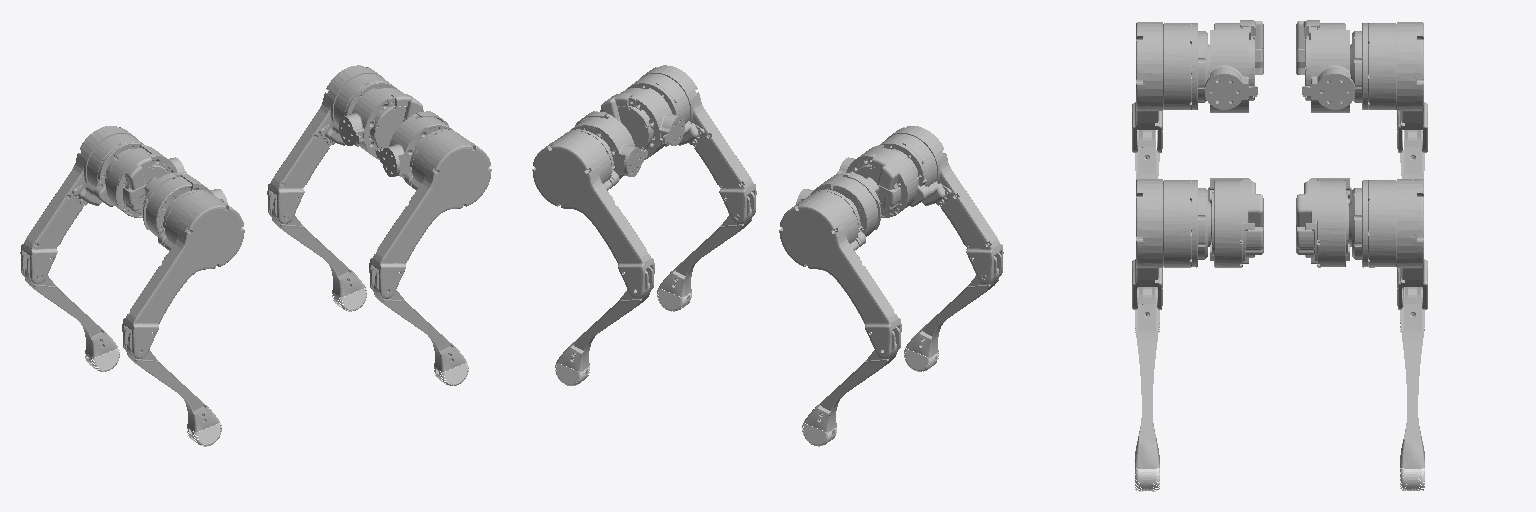
The robot description file, URDF, robot "Bigdog":
<?xml version="1.0" encoding="utf-8"?>
<!-- This URDF was automatically created by SolidWorks to URDF Exporter! Originally created by [author] ([email redacted]) 
     Commit Version: 1.6.0-4-g7f85cfe  Build Version: 1.6.7995.38578
     For more information, please see http://wiki.ros.org/sw_urdf_exporter -->
<robot
  name="Bigdog">
  <link
    name="BODY">
    <inertial>
      <origin
        xyz="-6.601E-06 6.0313E-07 -0.0033948"
        rpy="0 0 0" />
      <mass
        value="7.1237" />
      <inertia
        ixx="0.05681"
        ixy="0"
        ixz="-1E-05"
        iyy="0.07575"
        iyz="-1E-05"
        izz="0.10574" />
    </inertial>
    <visual>
      <origin
        xyz="0 0 0"
        rpy="0 0 0" />
      <geometry>
        <mesh
          filename="package://robot-Bigdog-A.SLDASM/meshes/BODY.STL" />
      </geometry>
      <material
        name="">
        <color
          rgba="0.75294 0.75294 0.75294 1" />
      </material>
    </visual>
    <collision>
      <origin
        xyz="0 0 0"
        rpy="0 0 0" />
      <geometry>
        <mesh
          filename="package://robot-Bigdog-A.SLDASM/meshes/BODY.STL" />
      </geometry>
    </collision>
  </link>
  <link
    name="FR_1">
    <inertial>
      <origin
        xyz="0.061252 0.0085205 0.00031161"
        rpy="0 0 0" />
      <mass
        value="0.33434" />
      <inertia
        ixx="0.00024"
        ixy="-1E-05"
        ixz="0"
        iyy="0.00041"
        iyz="0"
        izz="0.00029" />
    </inertial>
    <visual>
      <origin
        xyz="0 0 0"
        rpy="0 0 0" />
      <geometry>
        <mesh
          filename="package://robot-Bigdog-A.SLDASM/meshes/FR_1.STL" />
      </geometry>
      <material
        name="">
        <color
          rgba="0.75294 0.75294 0.75294 1" />
      </material>
    </visual>
    <collision>
      <origin
        xyz="0 0 0"
        rpy="0 0 0" />
      <geometry>
        <mesh
          filename="package://robot-Bigdog-A.SLDASM/meshes/FR_1.STL" />
      </geometry>
    </collision>
  </link>
  <joint
    name="FR_1A"
    type="revolute">
    <origin
      xyz="0.1393 -0.061 0"
      rpy="0 0 0" />
    <parent
      link="BODY" />
    <child
      link="FR_1" />
    <axis
      xyz="1 0 0" />
    <limit
      lower="-3.14"
      upper="3.14"
      effort="100"
      velocity="50" />
  </joint>
  <link
    name="FR_2">
    <inertial>
      <origin
        xyz="-0.033941 -0.061444 -0.031612"
        rpy="0 0 0" />
      <mass
        value="1.1104" />
      <inertia
        ixx="0.00351"
        ixy="-0.00045"
        ixz="-0.00244"
        iyy="0.00607"
        iyz="-0.00042"
        izz="0.00358" />
    </inertial>
    <visual>
      <origin
        xyz="0 0 0"
        rpy="0 0 0" />
      <geometry>
        <mesh
          filename="package://robot-Bigdog-A.SLDASM/meshes/FR_2.STL" />
      </geometry>
      <material
        name="">
        <color
          rgba="0.75294 0.75294 0.75294 1" />
      </material>
    </visual>
    <collision>
      <origin
        xyz="0 0 0"
        rpy="0 0 0" />
      <geometry>
        <mesh
          filename="package://robot-Bigdog-A.SLDASM/meshes/FR_2.STL" />
      </geometry>
    </collision>
  </link>
  <joint
    name="FR_2A"
    type="revolute">
    <origin
      xyz="0.065 -0.0115 0"
      rpy="0 0 0" />
    <parent
      link="FR_1" />
    <child
      link="FR_2" />
    <axis
      xyz="0 1 0" />
    <limit
      lower="-3.14"
      upper="3.14"
      effort="100"
      velocity="50" />
  </joint>
  <link
    name="FR_3">
    <inertial>
      <origin
        xyz="0.052368 -0.016301 -0.063878"
        rpy="0 0 0" />
      <mass
        value="0.10582" />
      <inertia
        ixx="0.00037"
        ixy="0"
        ixz="0.00029"
        iyy="0.00061"
        iyz="0"
        izz="0.00025" />
    </inertial>
    <visual>
      <origin
        xyz="0 0 0"
        rpy="0 0 0" />
      <geometry>
        <mesh
          filename="package://robot-Bigdog-A.SLDASM/meshes/FR_3.STL" />
      </geometry>
      <material
        name="">
        <color
          rgba="0.75294 0.75294 0.75294 1" />
      </material>
    </visual>
    <collision>
      <origin
        xyz="0 0 0"
        rpy="0 0 0" />
      <geometry>
        <mesh
          filename="package://robot-Bigdog-A.SLDASM/meshes/FR_3.STL" />
      </geometry>
    </collision>
  </link>
  <joint
    name="FR_3A"
    type="revolute">
    <origin
      xyz="-0.1247 -0.0572 -0.14861"
      rpy="0 0 0" />
    <parent
      link="FR_2" />
    <child
      link="FR_3" />
    <axis
      xyz="0 1 0" />
    <limit
      lower="-3.14"
      upper="3.14"
      effort="100"
      velocity="50" />
  </joint>
  <link
    name="FR_4">
    <inertial>
      <origin
        xyz="0.0017765 3.0979E-07 -0.011458"
        rpy="0 0 0" />
      <mass
        value="0.034657" />
      <inertia
        ixx="5.6404E-06"
        ixy="1.8541E-09"
        ixz="1.9984E-07"
        iyy="8.2173E-06"
        iyz="2.6192E-10"
        izz="6.9941E-06" />
    </inertial>
    <visual>
      <origin
        xyz="0 0 0"
        rpy="0 0 0" />
      <geometry>
        <mesh
          filename="package://robot-Bigdog-A.SLDASM/meshes/FR_4.STL" />
      </geometry>
      <material
        name="">
        <color
          rgba="1 1 1 1" />
      </material>
    </visual>
    <collision>
      <origin
        xyz="0 0 0"
        rpy="0 0 0" />
      <geometry>
        <mesh
          filename="package://robot-Bigdog-A.SLDASM/meshes/FR_4.STL" />
      </geometry>
    </collision>
  </link>
  <joint
    name="FR_4A"
    type="fixed">
    <origin
      xyz="0.11222 -0.0163 -0.14758"
      rpy="0 0 0" />
    <parent
      link="FR_3" />
    <child
      link="FR_4" />
    <axis
      xyz="0 0 0" />
  </joint>
  <link
    name="FL_1">
    <inertial>
      <origin
        xyz="0.061256 -0.0085206 0.00028119"
        rpy="0 0 0" />
      <mass
        value="0.33435" />
      <inertia
        ixx="0.00024"
        ixy="1E-05"
        ixz="0"
        iyy="0.00041"
        iyz="0"
        izz="0.00029" />
    </inertial>
    <visual>
      <origin
        xyz="0 0 0"
        rpy="0 0 0" />
      <geometry>
        <mesh
          filename="package://robot-Bigdog-A.SLDASM/meshes/FL_1.STL" />
      </geometry>
      <material
        name="">
        <color
          rgba="0.75294 0.75294 0.75294 1" />
      </material>
    </visual>
    <collision>
      <origin
        xyz="0 0 0"
        rpy="0 0 0" />
      <geometry>
        <mesh
          filename="package://robot-Bigdog-A.SLDASM/meshes/FL_1.STL" />
      </geometry>
    </collision>
  </link>
  <joint
    name="FL_1A"
    type="revolute">
    <origin
      xyz="0.1393 0.061 0"
      rpy="0 0 0" />
    <parent
      link="BODY" />
    <child
      link="FL_1" />
    <axis
      xyz="1 0 0" />
    <limit
      lower="-3.14"
      upper="3.14"
      effort="100"
      velocity="50" />
  </joint>
  <link
    name="FL_2">
    <inertial>
      <origin
        xyz="-0.033941 0.061444 -0.031616"
        rpy="0 0 0" />
      <mass
        value="1.1103" />
      <inertia
        ixx="0.00351"
        ixy="0.00045"
        ixz="-0.00244"
        iyy="0.00607"
        iyz="0.00042"
        izz="0.00358" />
    </inertial>
    <visual>
      <origin
        xyz="0 0 0"
        rpy="0 0 0" />
      <geometry>
        <mesh
          filename="package://robot-Bigdog-A.SLDASM/meshes/FL_2.STL" />
      </geometry>
      <material
        name="">
        <color
          rgba="0.75294 0.75294 0.75294 1" />
      </material>
    </visual>
    <collision>
      <origin
        xyz="0 0 0"
        rpy="0 0 0" />
      <geometry>
        <mesh
          filename="package://robot-Bigdog-A.SLDASM/meshes/FL_2.STL" />
      </geometry>
    </collision>
  </link>
  <joint
    name="FL_2A"
    type="revolute">
    <origin
      xyz="0.065 0.0115 0"
      rpy="0 0 0" />
    <parent
      link="FL_1" />
    <child
      link="FL_2" />
    <axis
      xyz="0 1 0" />
    <limit
      lower="-3.14"
      upper="3.14"
      effort="100"
      velocity="50" />
  </joint>
  <link
    name="FL_3">
    <inertial>
      <origin
        xyz="0.052437 0.016299 -0.063821"
        rpy="0 0 0" />
      <mass
        value="0.10582" />
      <inertia
        ixx="0.00037"
        ixy="0"
        ixz="0.00029"
        iyy="0.00061"
        iyz="0"
        izz="0.00025" />
    </inertial>
    <visual>
      <origin
        xyz="0 0 0"
        rpy="0 0 0" />
      <geometry>
        <mesh
          filename="package://robot-Bigdog-A.SLDASM/meshes/FL_3.STL" />
      </geometry>
      <material
        name="">
        <color
          rgba="0.75294 0.75294 0.75294 1" />
      </material>
    </visual>
    <collision>
      <origin
        xyz="0 0 0"
        rpy="0 0 0" />
      <geometry>
        <mesh
          filename="package://robot-Bigdog-A.SLDASM/meshes/FL_3.STL" />
      </geometry>
    </collision>
  </link>
  <joint
    name="FL_3A"
    type="revolute">
    <origin
      xyz="-0.1247 0.0572 -0.14861"
      rpy="0 0 0" />
    <parent
      link="FL_2" />
    <child
      link="FL_3" />
    <axis
      xyz="0 1 0" />
    <limit
      lower="-3.14"
      upper="3.14"
      effort="100"
      velocity="50" />
  </joint>
  <link
    name="FL_4">
    <inertial>
      <origin
        xyz="0.00178891349632576 3.09717608393267E-07 -0.0114556023572297"
        rpy="0 0 0" />
      <mass
        value="0.034656887242965" />
      <inertia
        ixx="5.64084567303261E-06"
        ixy="1.85384550092827E-09"
        ixz="2.01305184628335E-07"
        iyy="8.21732246303812E-06"
        iyz="2.63948675037413E-10"
        izz="6.99364784955886E-06" />
    </inertial>
    <visual>
      <origin
        xyz="0 0 0"
        rpy="0 0 0" />
      <geometry>
        <mesh
          filename="package://robot-Bigdog-A.SLDASM/meshes/FL_4.STL" />
      </geometry>
      <material
        name="">
        <color
          rgba="1 1 1 1" />
      </material>
    </visual>
    <collision>
      <origin
        xyz="0 0 0"
        rpy="0 0 0" />
      <geometry>
        <mesh
          filename="package://robot-Bigdog-A.SLDASM/meshes/FL_4.STL" />
      </geometry>
    </collision>
  </link>
  <joint
    name="FL_4A"
    type="fixed">
    <origin
      xyz="0.11238 0.0163 -0.14746"
      rpy="0 0 0" />
    <parent
      link="FL_3" />
    <child
      link="FL_4" />
    <axis
      xyz="0 0 0" />
  </joint>
  <link
    name="BR_1">
    <inertial>
      <origin
        xyz="-0.061256 0.0085206 0.00028119"
        rpy="0 0 0" />
      <mass
        value="0.33435" />
      <inertia
        ixx="0.00024"
        ixy="1E-05"
        ixz="0"
        iyy="0.00041"
        iyz="0"
        izz="0.00029" />
    </inertial>
    <visual>
      <origin
        xyz="0 0 0"
        rpy="0 0 0" />
      <geometry>
        <mesh
          filename="package://robot-Bigdog-A.SLDASM/meshes/BR_1.STL" />
      </geometry>
      <material
        name="">
        <color
          rgba="0.75294 0.75294 0.75294 1" />
      </material>
    </visual>
    <collision>
      <origin
        xyz="0 0 0"
        rpy="0 0 0" />
      <geometry>
        <mesh
          filename="package://robot-Bigdog-A.SLDASM/meshes/BR_1.STL" />
      </geometry>
    </collision>
  </link>
  <joint
    name="BR_1A"
    type="revolute">
    <origin
      xyz="-0.1393 -0.061 0"
      rpy="0 0 0" />
    <parent
      link="BODY" />
    <child
      link="BR_1" />
    <axis
      xyz="1 0 0" />
    <limit
      lower="-3.14"
      upper="3.14"
      effort="100"
      velocity="50" />
  </joint>
  <link
    name="BR_2">
    <inertial>
      <origin
        xyz="-0.033941 -0.061444 -0.031612"
        rpy="0 0 0" />
      <mass
        value="1.1104" />
      <inertia
        ixx="0.00351"
        ixy="-0.00045"
        ixz="-0.00244"
        iyy="0.00607"
        iyz="-0.00042"
        izz="0.00358" />
    </inertial>
    <visual>
      <origin
        xyz="0 0 0"
        rpy="0 0 0" />
      <geometry>
        <mesh
          filename="package://robot-Bigdog-A.SLDASM/meshes/BR_2.STL" />
      </geometry>
      <material
        name="">
        <color
          rgba="0.75294 0.75294 0.75294 1" />
      </material>
    </visual>
    <collision>
      <origin
        xyz="0 0 0"
        rpy="0 0 0" />
      <geometry>
        <mesh
          filename="package://robot-Bigdog-A.SLDASM/meshes/BR_2.STL" />
      </geometry>
    </collision>
  </link>
  <joint
    name="BR_2A"
    type="revolute">
    <origin
      xyz="-0.065 -0.0115 0"
      rpy="0 0 0" />
    <parent
      link="BR_1" />
    <child
      link="BR_2" />
    <axis
      xyz="0 1 0" />
    <limit
      lower="-3.14"
      upper="3.14"
      effort="100"
      velocity="50" />
  </joint>
  <link
    name="BR_3">
    <inertial>
      <origin
        xyz="0.052359 -0.016301 -0.063885"
        rpy="0 0 0" />
     <mass
        value="0.10582" />
      <inertia
        ixx="0.00037"
        ixy="0"
        ixz="0.00029"
        iyy="0.00061"
        iyz="0"
        izz="0.00025" />
    </inertial>
    <visual>
      <origin
        xyz="0 0 0"
        rpy="0 0 0" />
      <geometry>
        <mesh
          filename="package://robot-Bigdog-A.SLDASM/meshes/BR_3.STL" />
      </geometry>
      <material
        name="">
        <color
          rgba="0.75294 0.75294 0.75294 1" />
      </material>
    </visual>
    <collision>
      <origin
        xyz="0 0 0"
        rpy="0 0 0" />
      <geometry>
        <mesh
          filename="package://robot-Bigdog-A.SLDASM/meshes/BR_3.STL" />
      </geometry>
    </collision>
  </link>
  <joint
    name="BR_3A"
    type="revolute">
    <origin
      xyz="-0.1247 -0.0572 -0.14861"
      rpy="0 0 0" />
    <parent
      link="BR_2" />
    <child
      link="BR_3" />
    <axis
      xyz="0 1 0" />
    <limit
      lower="-3.14"
      upper="3.14"
      effort="100"
      velocity="50" />
  </joint>
  <link
    name="BR_4">
    <inertial>
      <origin
        xyz="0.00177499106550391 3.09798694614338E-07 -0.0114577678053921"
        rpy="0 0 0" />
      <mass
        value="0.0346568887557471" />
      <inertia
        ixx="5.64035838651341E-06"
        ixy="1.85417993437784E-09"
        ixz="1.99660724135235E-07"
        iyy="8.2173226004451E-06"
        iyz="2.61673167246472E-10"
        izz="6.9941354022534E-06" />
    </inertial>
    <visual>
      <origin
        xyz="0 0 0"
        rpy="0 0 0" />
      <geometry>
        <mesh
          filename="package://robot-Bigdog-A.SLDASM/meshes/BR_4.STL" />
      </geometry>
      <material
        name="">
        <color
          rgba="1 1 1 1" />
      </material>
    </visual>
    <collision>
      <origin
        xyz="0 0 0"
        rpy="0 0 0" />
      <geometry>
        <mesh
          filename="package://robot-Bigdog-A.SLDASM/meshes/BR_4.STL" />
      </geometry>
    </collision>
  </link>
  <joint
    name="BR_4A"
    type="fixed">
    <origin
      xyz="0.1122 -0.0163 -0.14759"
      rpy="0 0 0" />
    <parent
      link="BR_3" />
    <child
      link="BR_4" />
    <axis
      xyz="0 0 0" />
  </joint>
  <link
    name="BL_1">
    <inertial>
      <origin
        xyz="-0.061252 -0.0085205 0.00031161"
        rpy="0 0 0" />
      <mass
        value="0.33434" />
      <inertia
        ixx="0.00024"
        ixy="-1E-05"
        ixz="0"
        iyy="0.00041"
        iyz="0"
        izz="0.00029" />
    </inertial>
    <visual>
      <origin
        xyz="0 0 0"
        rpy="0 0 0" />
      <geometry>
        <mesh
          filename="package://robot-Bigdog-A.SLDASM/meshes/BL_1.STL" />
      </geometry>
      <material
        name="">
        <color
          rgba="0.75294 0.75294 0.75294 1" />
      </material>
    </visual>
    <collision>
      <origin
        xyz="0 0 0"
        rpy="0 0 0" />
      <geometry>
        <mesh
          filename="package://robot-Bigdog-A.SLDASM/meshes/BL_1.STL" />
      </geometry>
    </collision>
  </link>
  <joint
    name="BL_1A"
    type="revolute">
    <origin
      xyz="-0.1393 0.061 0"
      rpy="0 0 0" />
    <parent
      link="BODY" />
    <child
      link="BL_1" />
    <axis
      xyz="1 0 0" />
    <limit
      lower="-3.14"
      upper="3.14"
      effort="100"
      velocity="50" />
  </joint>
  <link
    name="BL_2">
    <inertial>
      <origin
        xyz="-0.033941 0.061444 -0.031616"
        rpy="0 0 0" />
      <mass
        value="1.1103" />
      <inertia
        ixx="0.00351"
        ixy="0.00045"
        ixz="-0.00244"
        iyy="0.00607"
        iyz="0.00042"
        izz="0.00358" />
    </inertial>
    <visual>
      <origin
        xyz="0 0 0"
        rpy="0 0 0" />
      <geometry>
        <mesh
          filename="package://robot-Bigdog-A.SLDASM/meshes/BL_2.STL" />
      </geometry>
      <material
        name="">
        <color
          rgba="0.75294 0.75294 0.75294 1" />
      </material>
    </visual>
    <collision>
      <origin
        xyz="0 0 0"
        rpy="0 0 0" />
      <geometry>
        <mesh
          filename="package://robot-Bigdog-A.SLDASM/meshes/BL_2.STL" />
      </geometry>
    </collision>
  </link>
  <joint
    name="BL_2A"
    type="revolute">
    <origin
      xyz="-0.065 0.0115 0"
      rpy="0 0 0" />
    <parent
      link="BL_1" />
    <child
      link="BL_2" />
    <axis
      xyz="0 1 0" />
    <limit
      lower="-3.14"
      upper="3.14"
      effort="100"
      velocity="50" />
  </joint>
  <link
    name="BL_3">
    <inertial>
      <origin
        xyz="0.052358 0.016299 -0.063886"
        rpy="0 0 0" />
     <mass
        value="0.10582" />
      <inertia
        ixx="0.00037"
        ixy="0"
        ixz="0.00029"
        iyy="0.00061"
        iyz="0"
        izz="0.00025" />
    </inertial>
    <visual>
      <origin
        xyz="0 0 0"
        rpy="0 0 0" />
      <geometry>
        <mesh
          filename="package://robot-Bigdog-A.SLDASM/meshes/BL_3.STL" />
      </geometry>
      <material
        name="">
        <color
          rgba="0.75294 0.75294 0.75294 1" />
      </material>
    </visual>
    <collision>
      <origin
        xyz="0 0 0"
        rpy="0 0 0" />
      <geometry>
        <mesh
          filename="package://robot-Bigdog-A.SLDASM/meshes/BL_3.STL" />
      </geometry>
    </collision>
  </link>
  <joint
    name="BL_3A"
    type="revolute">
    <origin
      xyz="-0.1247 0.0572 -0.14861"
      rpy="0 0 0" />
    <parent
      link="BL_2" />
    <child
      link="BL_3" />
    <axis
      xyz="0 1 0" />
    <limit
      lower="-3.14"
      upper="3.14"
      effort="100"
      velocity="50" />
  </joint>
  <link
    name="BL_4">
    <inertial>
      <origin
        xyz="0.00177474407803635 3.09800131159665E-07 -0.0114578060645815"
        rpy="0 0 0" />
      <mass
        value="0.0346568887825792" />
      <inertia
        ixx="5.64034977883528E-06"
        ixy="1.85418584154819E-09"
        ixz="1.99631543104731E-07"
        iyy="8.21732260288241E-06"
        iyz="2.61632799188873E-10"
        izz="6.99414401465298E-06" />
    </inertial>
    <visual>
      <origin
        xyz="0 0 0"
        rpy="0 0 0" />
      <geometry>
        <mesh
          filename="package://robot-Bigdog-A.SLDASM/meshes/BL_4.STL" />
      </geometry>
      <material
        name="">
        <color
          rgba="1 1 1 1" />
      </material>
    </visual>
    <collision>
      <origin
        xyz="0 0 0"
        rpy="0 0 0" />
      <geometry>
        <mesh
          filename="package://robot-Bigdog-A.SLDASM/meshes/BL_4.STL" />
      </geometry>
    </collision>
  </link>
  <joint
    name="BL_4A"
    type="fixed">
    <origin
      xyz="0.1122 0.0163 -0.1476"
      rpy="0 0 0" />
    <parent
      link="BL_3" />
    <child
      link="BL_4" />
    <axis
      xyz="0 0 0" />
  </joint>
</robot>

--- Render facts (derived) ---
The picture shows the robot from 3 angles, left to right: view 1: azimuth 30°, elevation 25°; view 2: azimuth 150°, elevation 25°; view 3: azimuth 270°, elevation 25°; orthographic projection.
Robot: Bigdog — 17 links, 16 joints (12 revolute, 4 fixed); root link BODY; default pose: every joint at zero.
Visible links, largest first — view 1: FR_2, BR_2, BL_2, FL_2, FL_1, BL_1, FR_1, BR_1, FR_3, BR_3, BL_3, FL_3; view 2: BL_2, FL_2, BR_2, FR_2, FR_1, BR_1, FL_1, BL_1, FL_3, BL_3, BR_3, FR_3; view 3: FR_2, FL_2, BR_2, BL_2, BR_1, BL_1, FR_1, FL_1, FR_3, FL_3, BL_3, BR_3 (+2 smaller).
Boxes of the visible links, box(x1,y1,x2,y2) form: FR_2: box(369, 129, 491, 298); BR_2: box(122, 190, 244, 358); BL_2: box(20, 126, 143, 284); FL_2: box(267, 65, 397, 223); FL_1: box(339, 88, 423, 159); BL_1: box(106, 145, 187, 217); FR_1: box(376, 111, 453, 178); BR_1: box(143, 173, 227, 236); FR_3: box(370, 267, 466, 371); BR_3: box(124, 327, 219, 431); BL_3: box(22, 252, 117, 357); FL_3: box(269, 192, 364, 296); BL_2: box(779, 190, 901, 358); FL_2: box(532, 129, 654, 298); BR_2: box(880, 126, 1003, 284); FR_2: box(627, 65, 756, 223); FR_1: box(600, 88, 684, 159); BR_1: box(836, 145, 917, 217); FL_1: box(570, 111, 647, 178); BL_1: box(796, 173, 880, 236); FL_3: box(557, 267, 653, 371); BL_3: box(804, 327, 899, 431); BR_3: box(906, 252, 1001, 357); FR_3: box(659, 192, 754, 296); FR_2: box(1132, 179, 1210, 309); FL_2: box(1349, 179, 1427, 309); BR_2: box(1132, 22, 1209, 152); BL_2: box(1350, 22, 1427, 152); BR_1: box(1205, 20, 1263, 112); BL_1: box(1296, 20, 1354, 112); FR_1: box(1208, 178, 1263, 267); FL_1: box(1296, 178, 1351, 267); FR_3: box(1135, 287, 1159, 468); FL_3: box(1400, 287, 1424, 468); BL_3: box(1400, 130, 1424, 306); BR_3: box(1135, 130, 1159, 306).
Size in the robot's own frame: 0.5995 by 0.3256 by 0.3786 metres.
16 mesh visuals loaded from 17 distinct referenced files (16 binary STL); not drawn: 1 (reference not matched to a file when rendering).